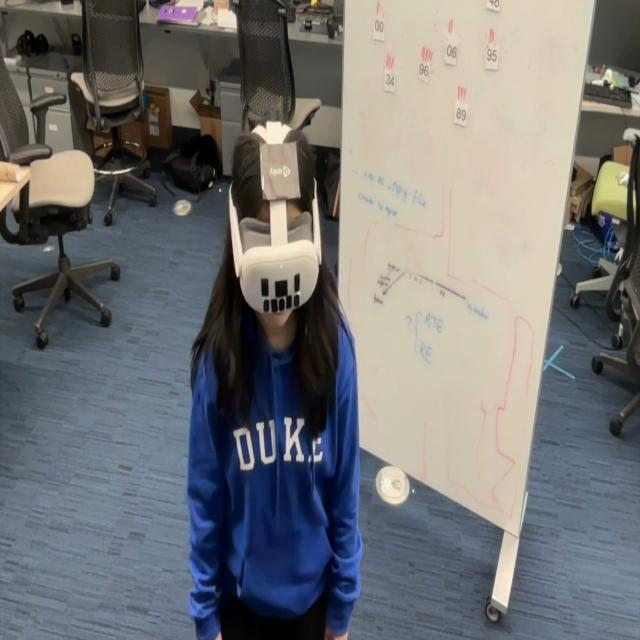UnityLogo: (261, 144, 307, 202)
